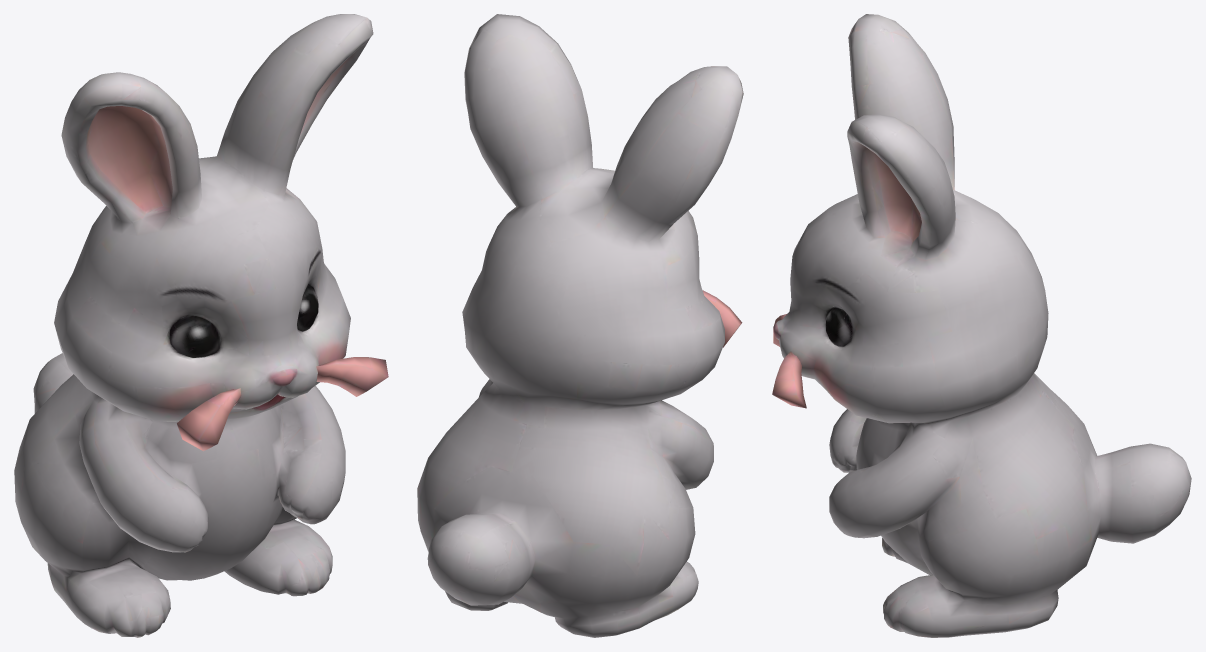
The model's file is bunny.deed9767.glb.
3 views of the same model, side by side, from view 1: azimuth 30°, elevation 25°; view 2: azimuth 150°, elevation 25°; view 3: azimuth 270°, elevation 25° (orthographic). The views are drawn at different scales.
Visible parts, largest first — view 1: tripo_node_06ff4501-0082-43a4-9261-c18f776240e0; view 2: tripo_node_06ff4501-0082-43a4-9261-c18f776240e0; view 3: tripo_node_06ff4501-0082-43a4-9261-c18f776240e0.
Boxes of the visible parts, box(x1,y1,x2,y2) form: tripo_node_06ff4501-0082-43a4-9261-c18f776240e0: box(14, 14, 388, 637); tripo_node_06ff4501-0082-43a4-9261-c18f776240e0: box(417, 14, 743, 637); tripo_node_06ff4501-0082-43a4-9261-c18f776240e0: box(772, 14, 1191, 637).
Bounding box in the file's own units: 0.5371 × 0.998 × 0.7324.
1 material, 1 textured.
